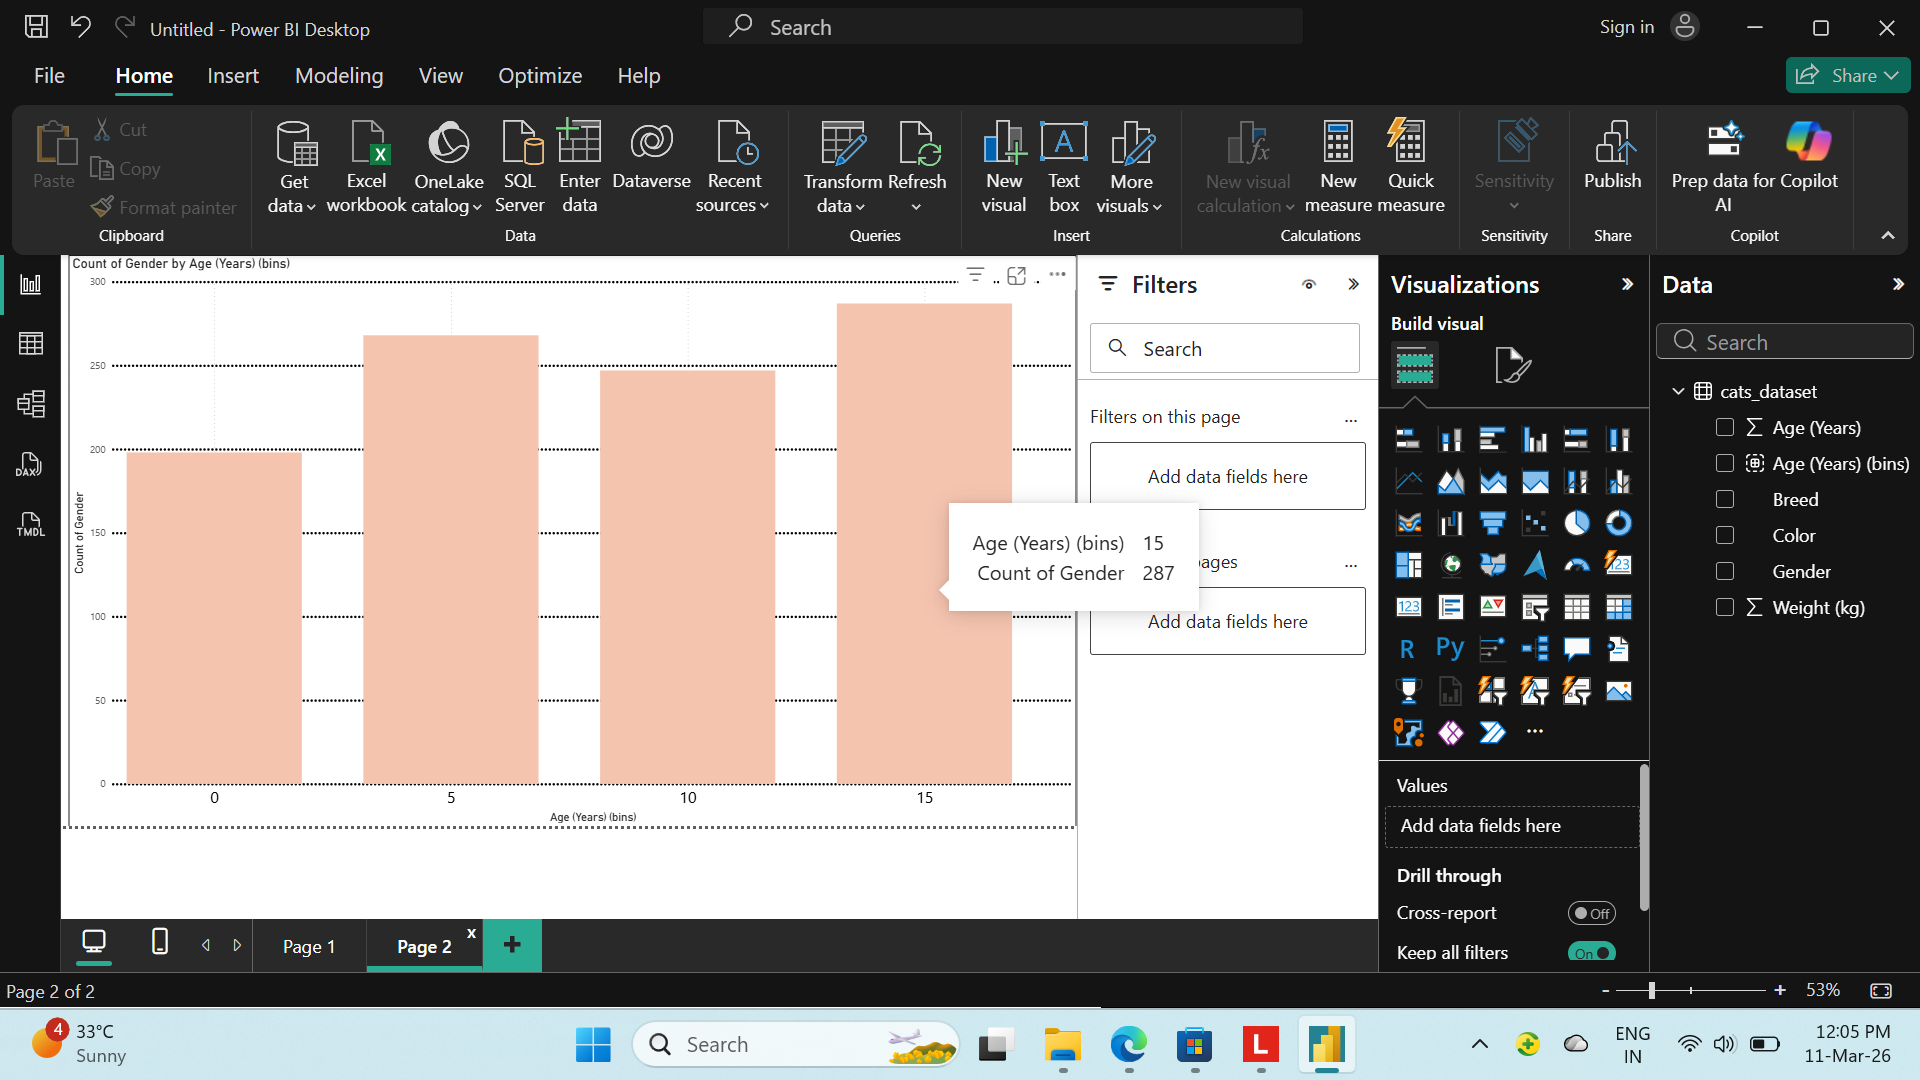

The page's visual inventory and layout, read from the dashboard file:
{"tool":"powerbi","page":{"name":"Page 2","canvas":[1280,720],"ordinal":1},"visuals":[{"type":"columnChart","fields":{"Y":["CountNonNull(cats_dataset.Gender)"],"Category":["cats_dataset.Age (Years) (bins)"]},"box":[9.4,0,1269.9,720],"z":0}]}

Visuals, with their boxes on the page's 1280x720 design canvas (x1, y1, x2, y2). These are canvas units, not pixel positions in the 1920x1080 screenshot, which may show the page scaled, cropped or inside an application window:
columnChart - CountNonNull(cats_dataset.Gender) x cats_dataset.Age (Years) (bins): select_region(9, 0, 1279, 720)
